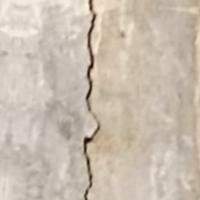crack: (68, 0, 125, 199)
